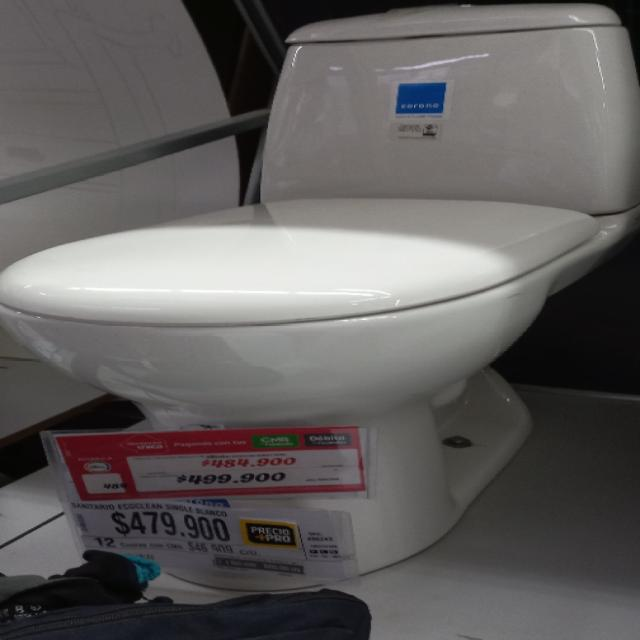toilet: (0, 2, 637, 582)
